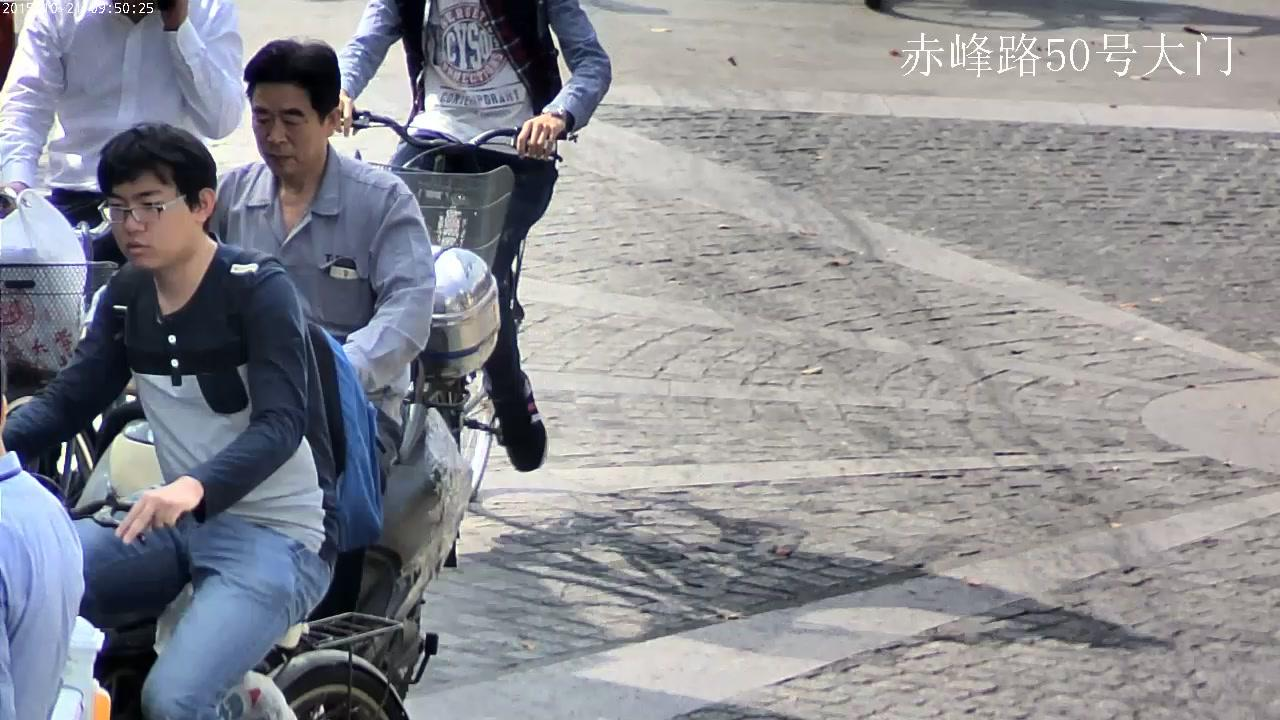person: (0, 121, 438, 720), (179, 38, 501, 705), (0, 121, 335, 720), (328, 0, 611, 498), (327, 0, 611, 471), (179, 41, 435, 494), (0, 1, 246, 404), (1, 1, 246, 268), (0, 354, 85, 720)
